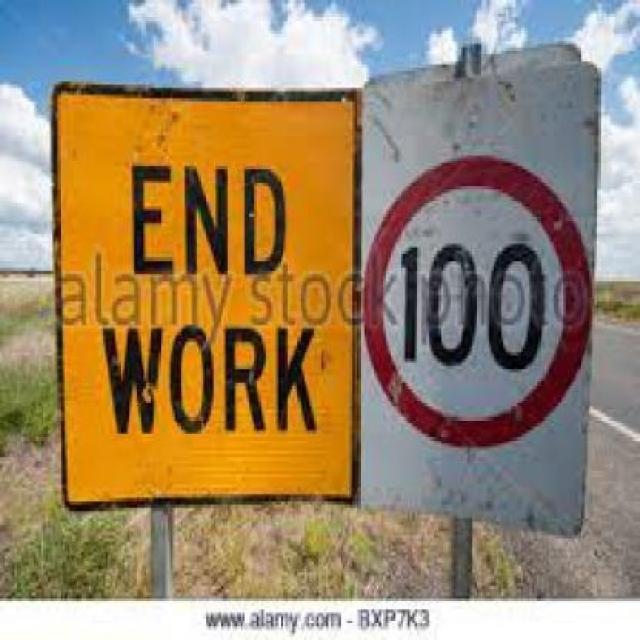forb_speed_over_100: (365, 159, 588, 447)
